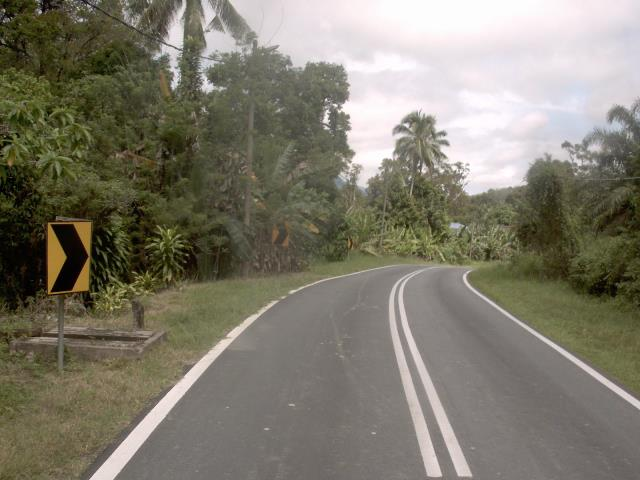traffic_sign: (38, 208, 102, 310)
